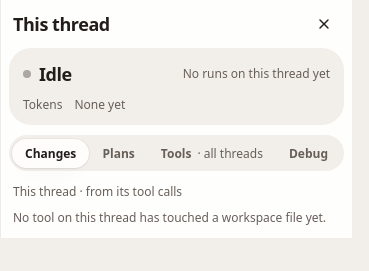
Test: the instrument and approvals › labels the tool metrics as every thread’s
Click the tab "Tools · all threads": x=212, y=153 [148,139,276,168]
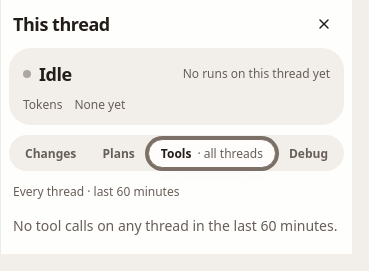
Now the text "Every thread · last 60 minutes" is shown, box [13,183,179,200]
